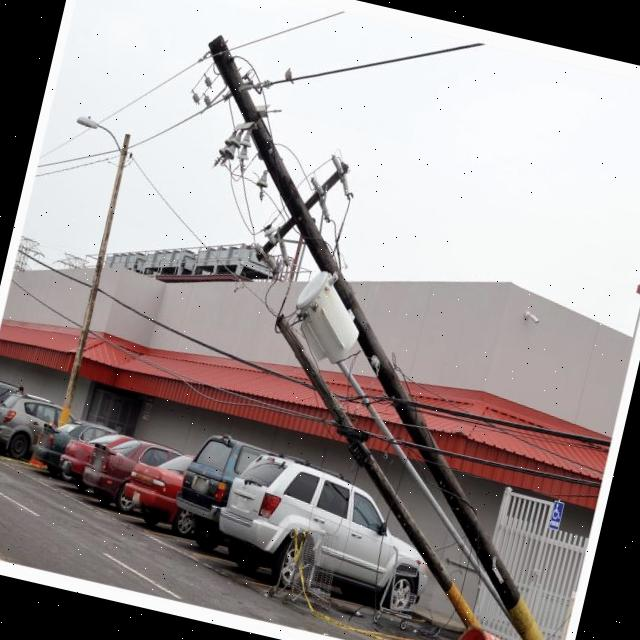Broken Pole: (187, 37, 545, 640), (273, 320, 480, 629)
